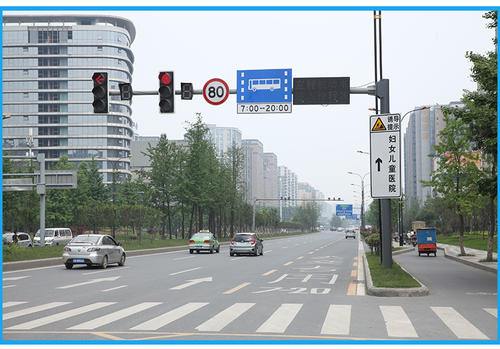red: (156, 69, 176, 116), (91, 69, 110, 115)
